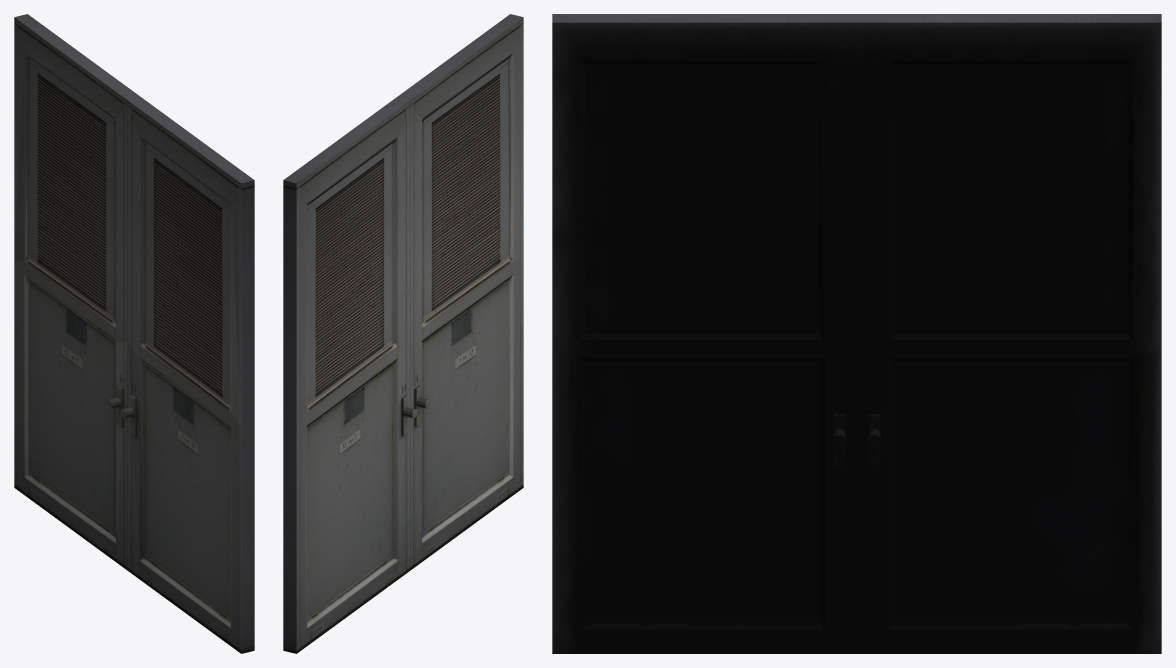
File: Hangar_Door.FBX
3 renders of one model, left to right at view 1: azimuth 30°, elevation 25°; view 2: azimuth 150°, elevation 25°; view 3: azimuth 270°, elevation 25°, orthographic. The views are drawn at different scales.
Visible parts, largest first — view 1: Hangar_Door; view 2: Hangar_Door; view 3: Hangar_Door.
Boxes of the visible parts, x1=… form: Hangar_Door: x1=14, y1=14, x2=254, y2=653; Hangar_Door: x1=283, y1=14, x2=523, y2=653; Hangar_Door: x1=552, y1=14, x2=1161, y2=653.
Bounding box in the file's own units: 17.81 × 225 × 197.
